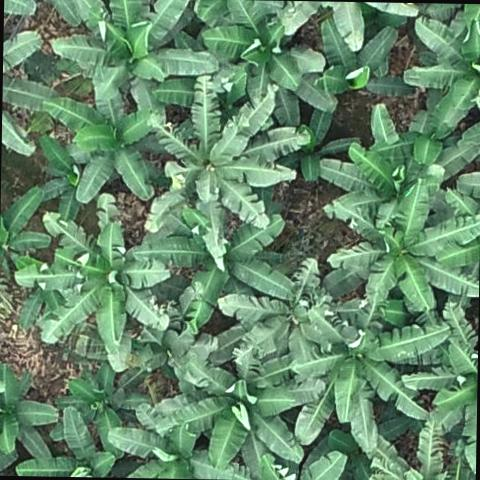Banana-plant: (145, 86, 304, 253), (12, 205, 169, 372), (290, 292, 439, 452), (139, 208, 302, 330), (327, 188, 480, 313), (174, 340, 324, 466), (317, 100, 480, 213), (49, 0, 215, 97), (44, 77, 158, 206), (216, 252, 348, 360), (402, 302, 479, 474), (207, 0, 326, 102), (404, 2, 480, 129), (318, 18, 417, 102), (110, 424, 246, 480), (272, 99, 360, 184), (55, 366, 153, 435), (17, 412, 115, 478), (132, 322, 216, 393), (0, 363, 59, 464), (36, 134, 98, 224), (0, 184, 52, 273)
